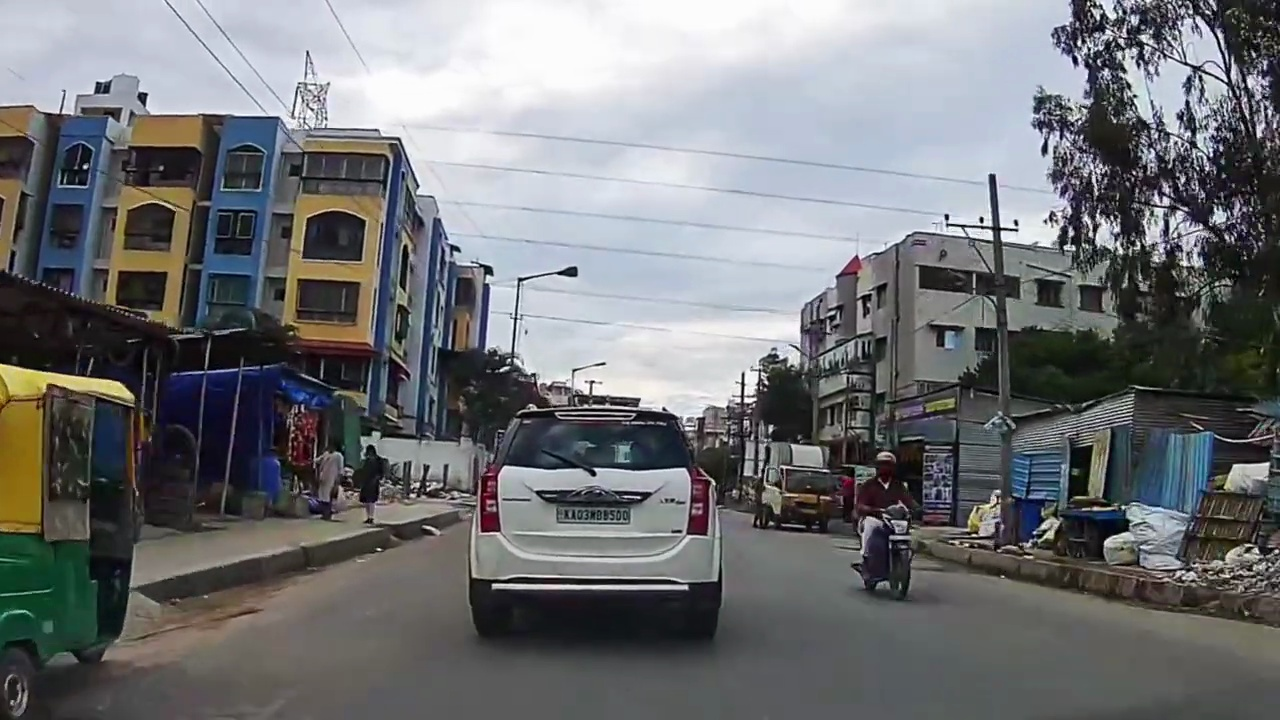garbage: (1194, 545, 1278, 588)
